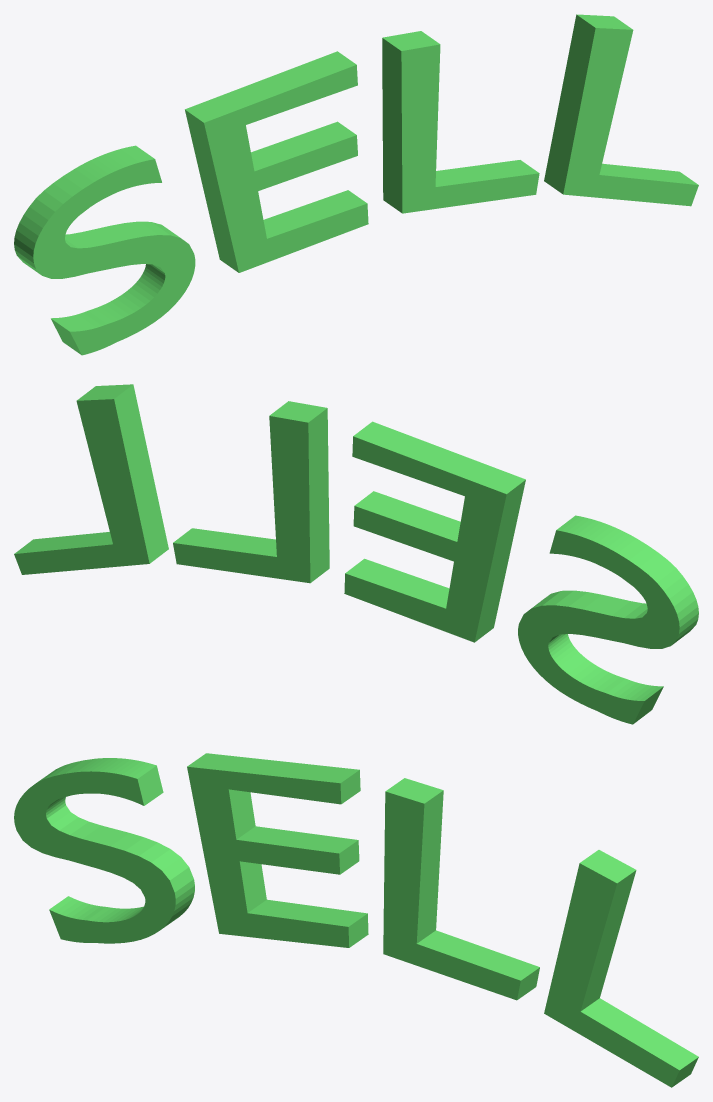
Rendered from _eLLletter.fbx.
3 views of the same model, one above another, from view 1: azimuth 30°, elevation 25°; view 2: azimuth 150°, elevation 25°; view 3: azimuth 330°, elevation 25° (orthographic).
Parts seen in each view (by area): view 1: E, S, L.001, L; view 2: E, S, L.001, L; view 3: E, S, L.001, L.
Boxes of the visible parts, x1,y1,x2,y2 form: E: (185, 51, 368, 272); S: (14, 145, 195, 355); L.001: (382, 31, 539, 213); L: (544, 14, 698, 206); E: (344, 421, 525, 642); S: (518, 515, 698, 724); L.001: (173, 401, 329, 583); L: (14, 384, 168, 574); E: (187, 753, 368, 947); S: (14, 758, 194, 943); L.001: (383, 778, 539, 1000); L: (544, 850, 698, 1087).
Size of the model in its own units: 294 by 95.12 by 16.42.
